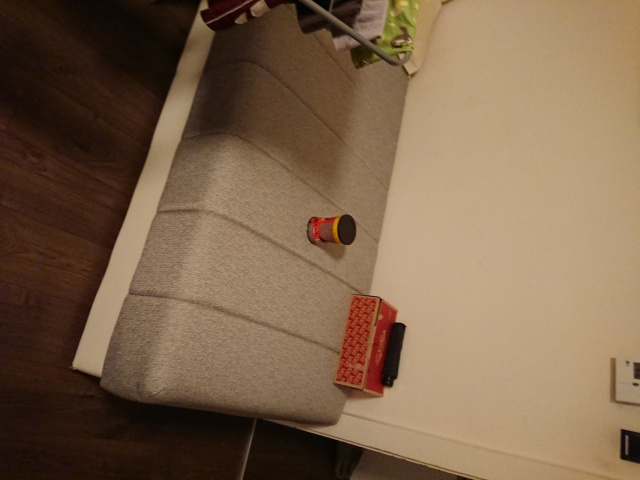Nescafe Classic 225g: (305, 212, 358, 247)
